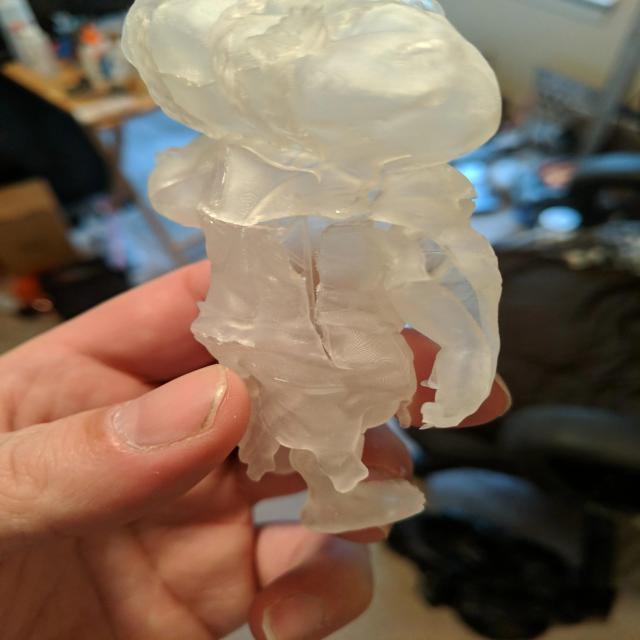cracks: (268, 208, 372, 383)
